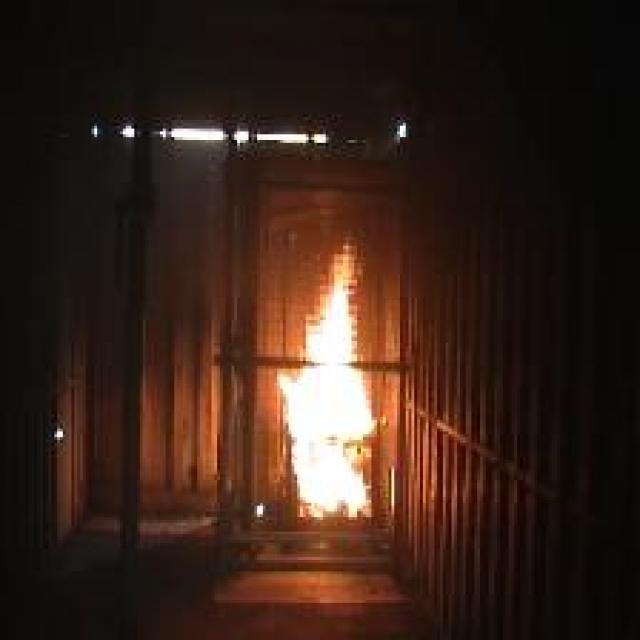Fire: (277, 238, 377, 522)
